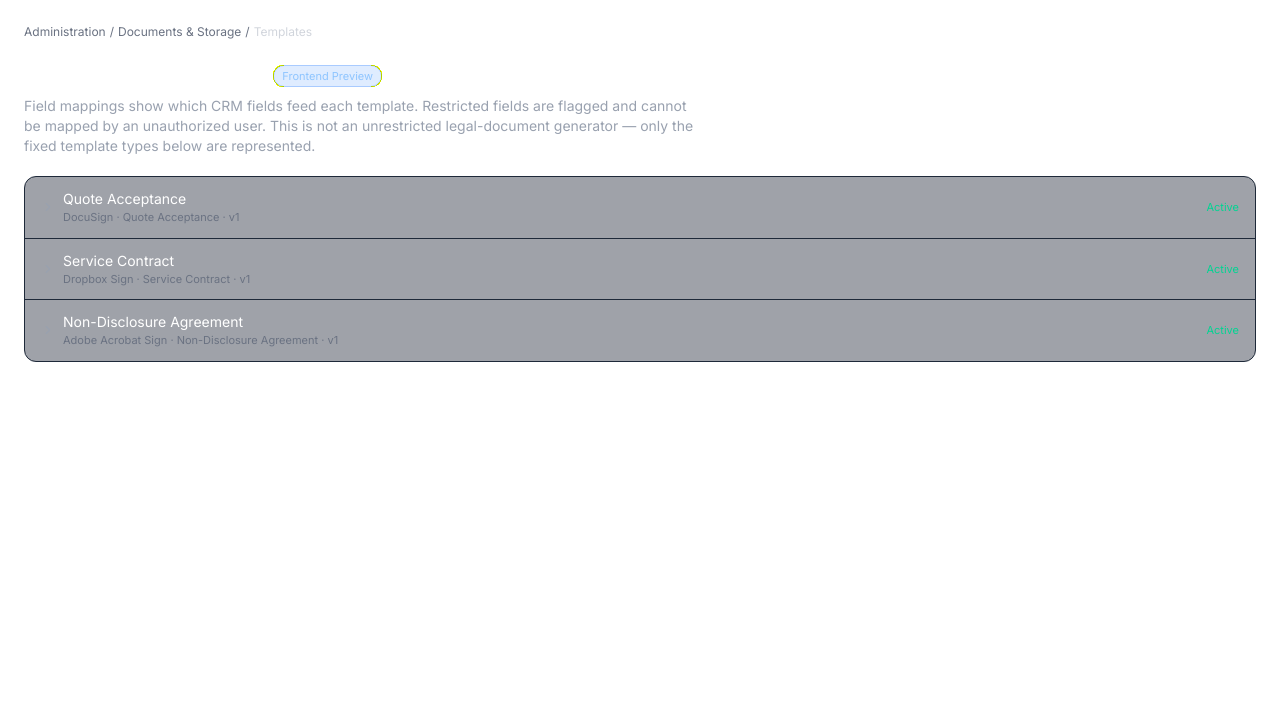
SignatureTemplatesList › System Owner can see the restricted field label unmasked
Click the text "Service Contract" at (119, 260), box top-left (63, 252), bottom-right (174, 268)
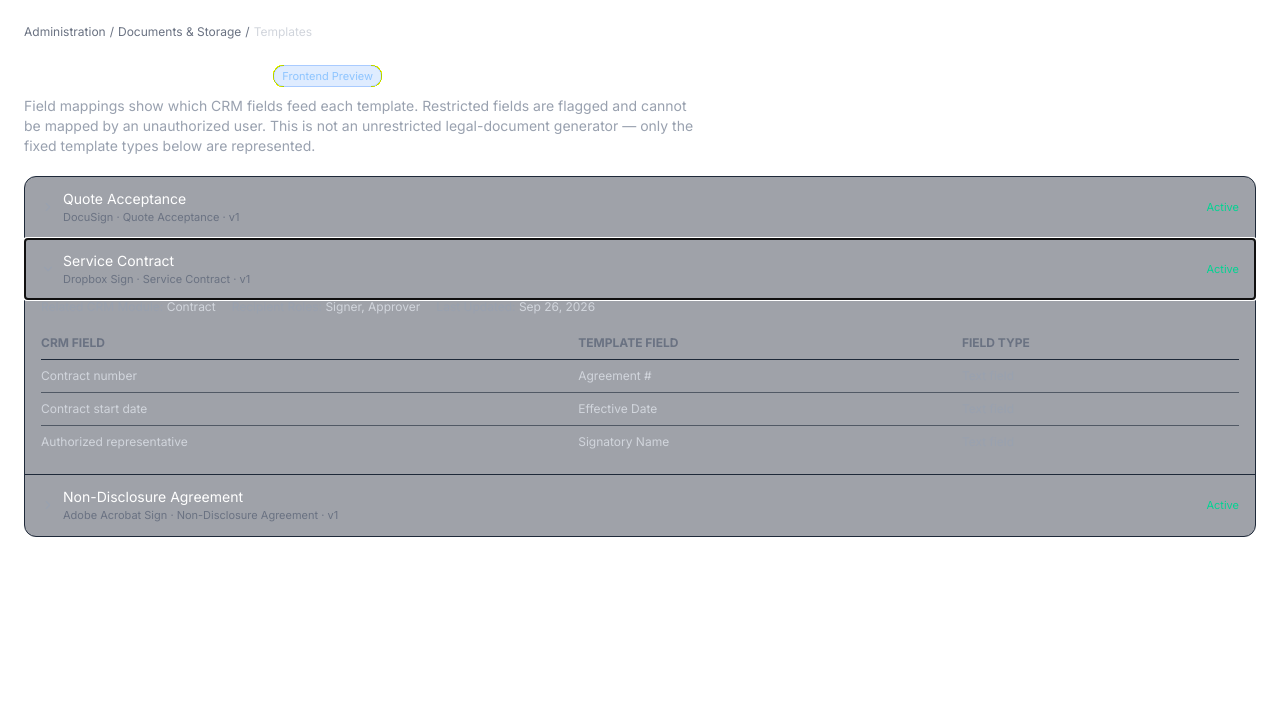
Expected: the text "Signatory Name" is shown, top-left (578, 426), bottom-right (962, 458)
